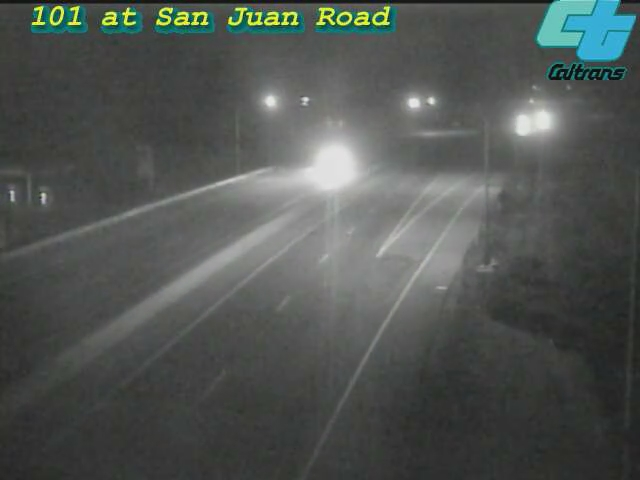vehicle: (288, 122, 368, 202), (500, 107, 550, 157), (498, 96, 548, 146), (518, 95, 568, 145)
